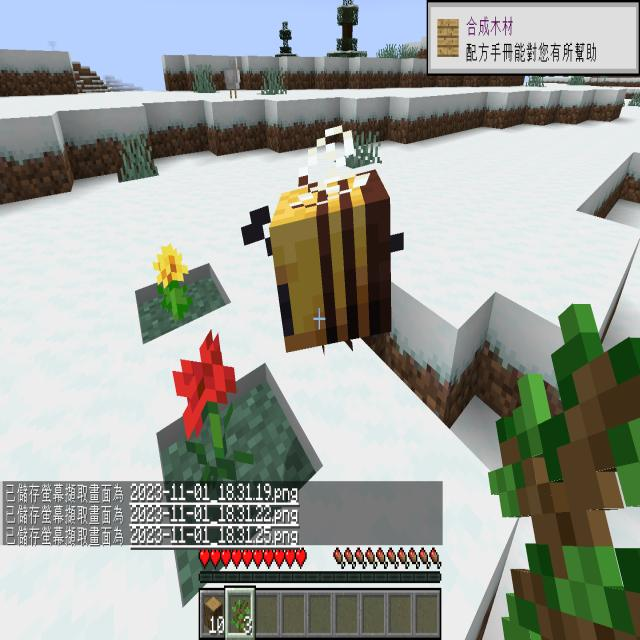bee: (235, 110, 410, 368)
chicken: (215, 49, 248, 109)
